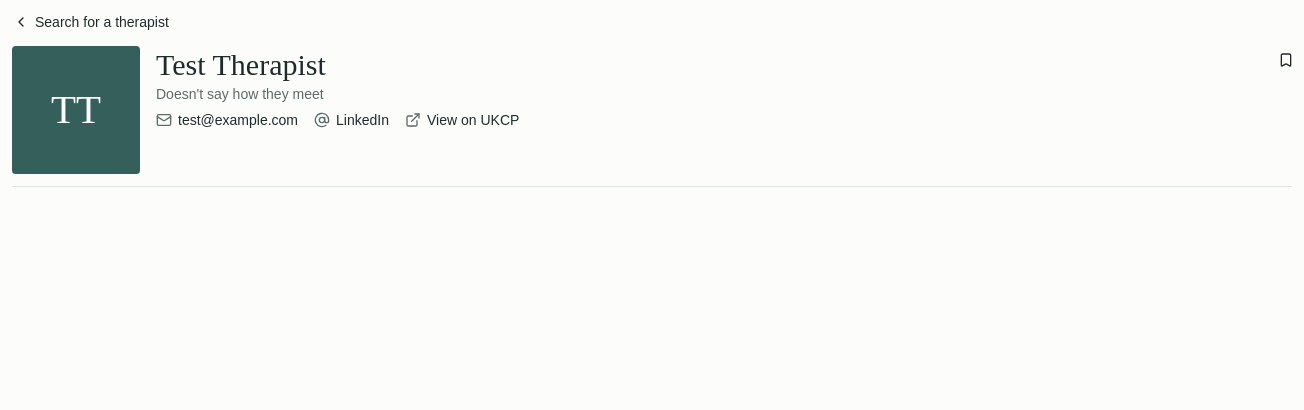
Test: ProfilePage's contact offer › shortlists a therapist not on the list as contacted on Yes, says so, and gives focus back to the link
Expected: the heading "Test Therapist" is shown, 156,48 -> 326,81
Click the link with aria-label "Email: test@example.com" at (227, 120), box 156,110 -> 298,130
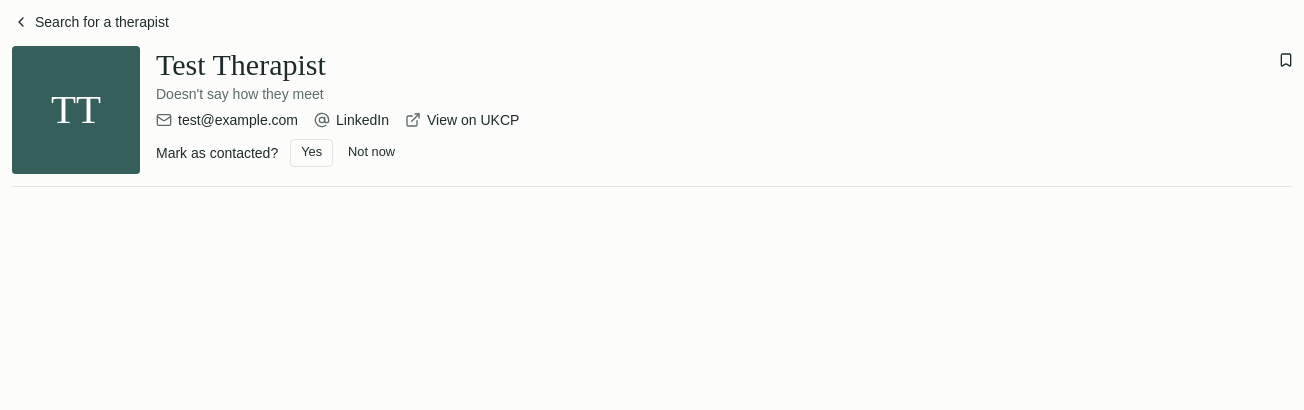
Click the button "Yes" at (312, 152), box 290,138 -> 333,166
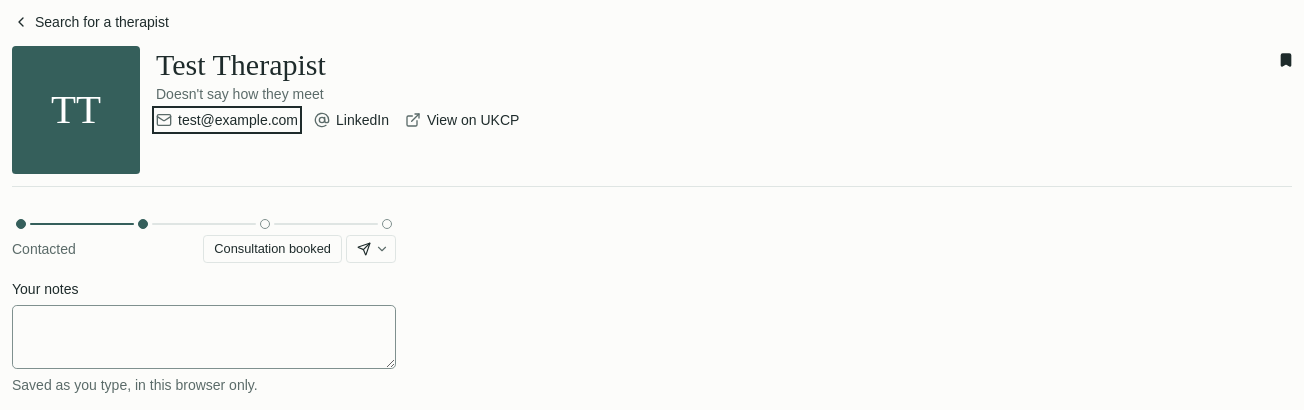
Now the text "Mark as contacted?" is gone
